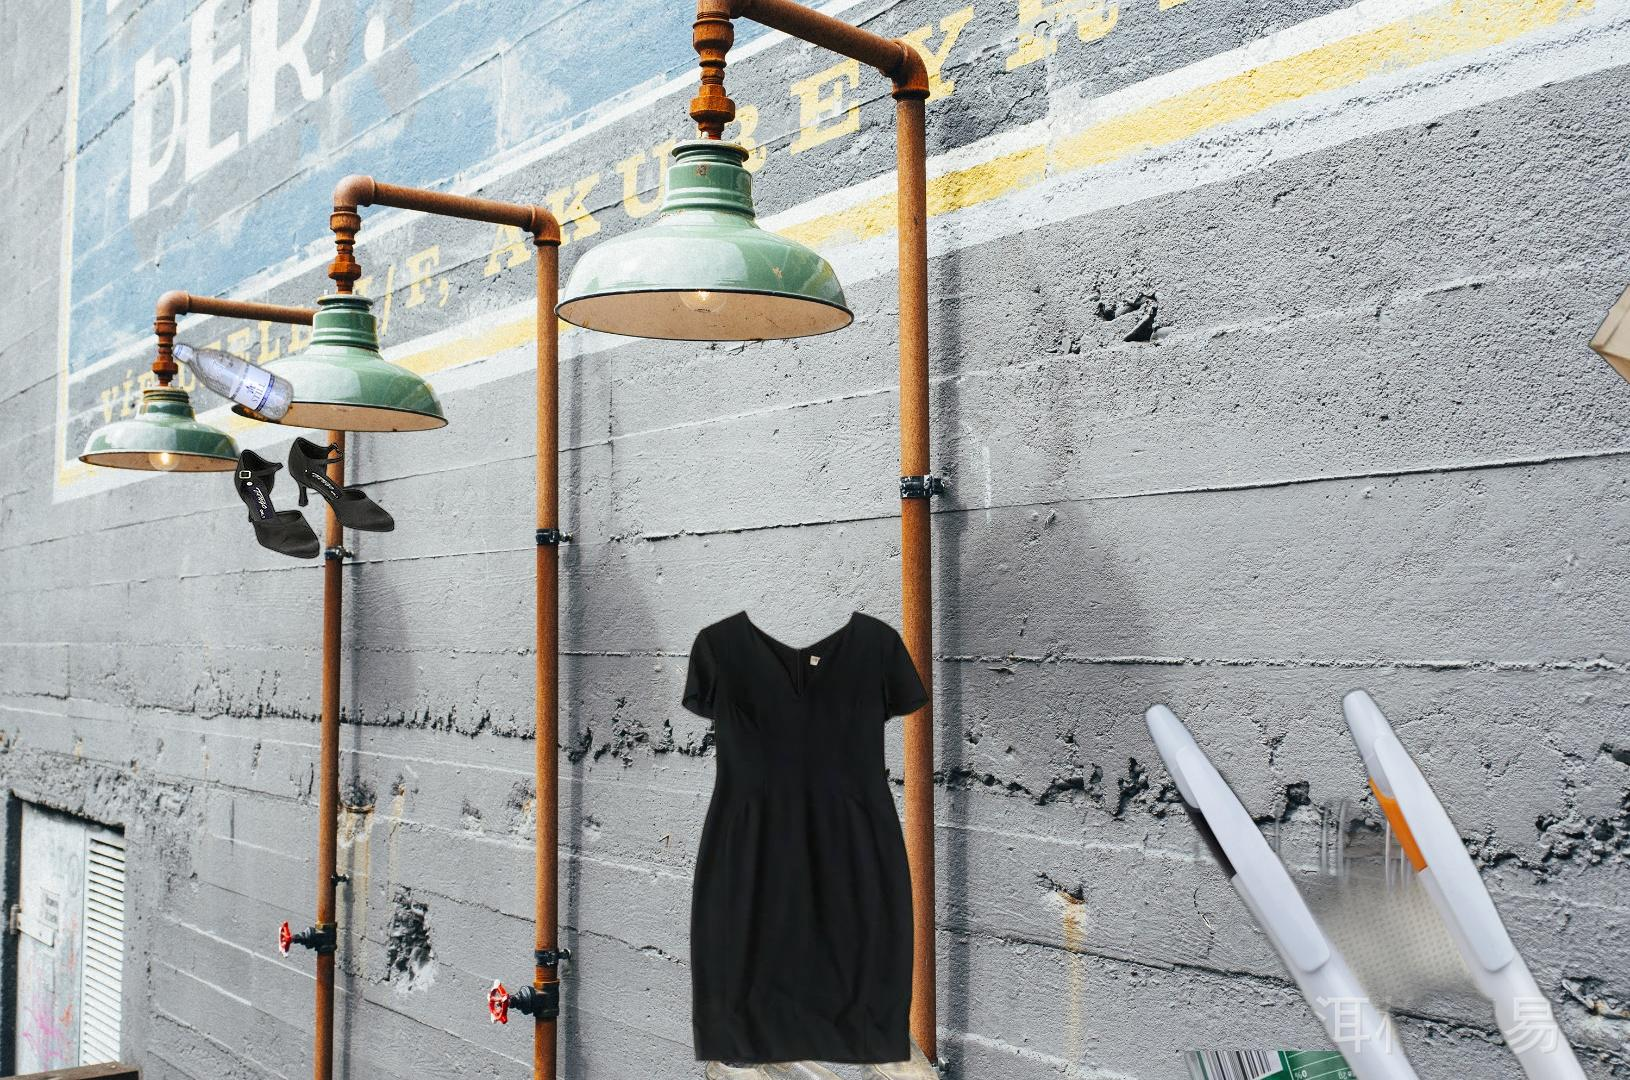clothes: (677, 606, 934, 1069)
glass: (1179, 1051, 1475, 1080)
paper-bag: (1585, 196, 1630, 456)
penholder: (1129, 682, 1630, 1080)
plastic-bottles: (167, 337, 298, 427)
shoes: (231, 434, 398, 562), (702, 1000, 948, 1080)
